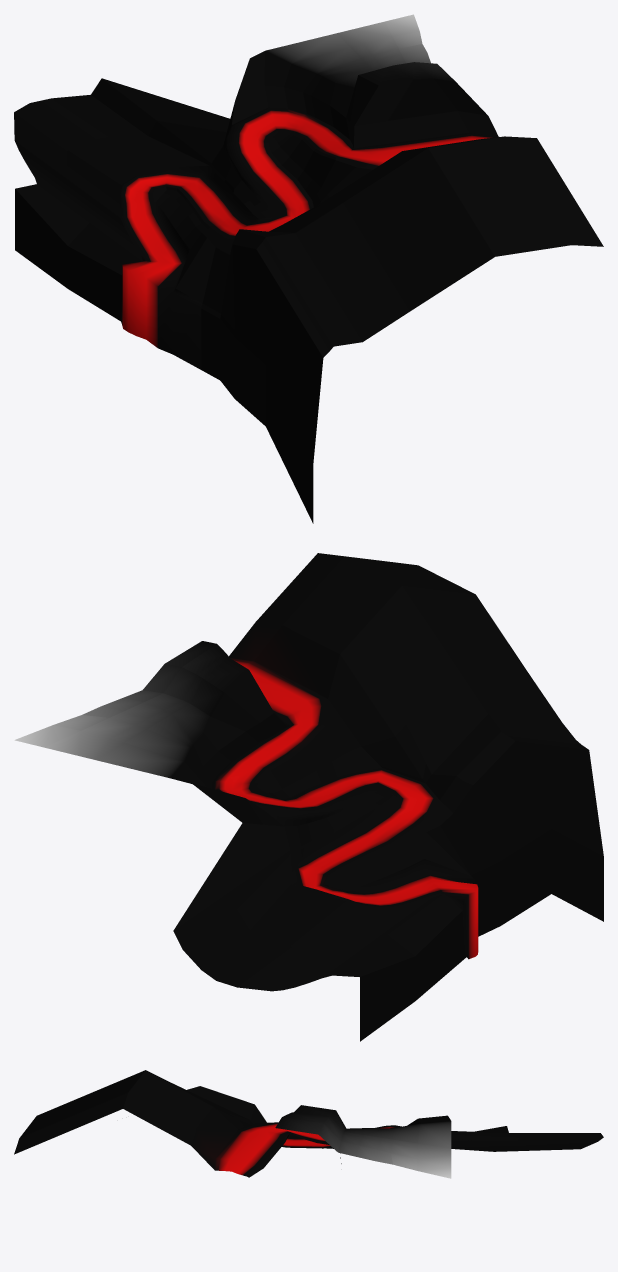
The model's file is LevelAEnd.glb.
The picture shows the model from 3 angles, top to bottom: view 1: azimuth 30°, elevation 25°; view 2: azimuth 150°, elevation 25°; view 3: azimuth 270°, elevation 25°; orthographic projection. The views are drawn at different scales.
Visible parts, largest first — view 1: EndPath; view 2: EndPath; view 3: EndPath.
Boxes of the visible parts, x1,y1,x2,y2 form: EndPath: [14, 14, 603, 523]; EndPath: [14, 553, 603, 1041]; EndPath: [14, 1070, 603, 1178].
Size of the model in its own units: 51.72 by 42.6 by 90.95.
